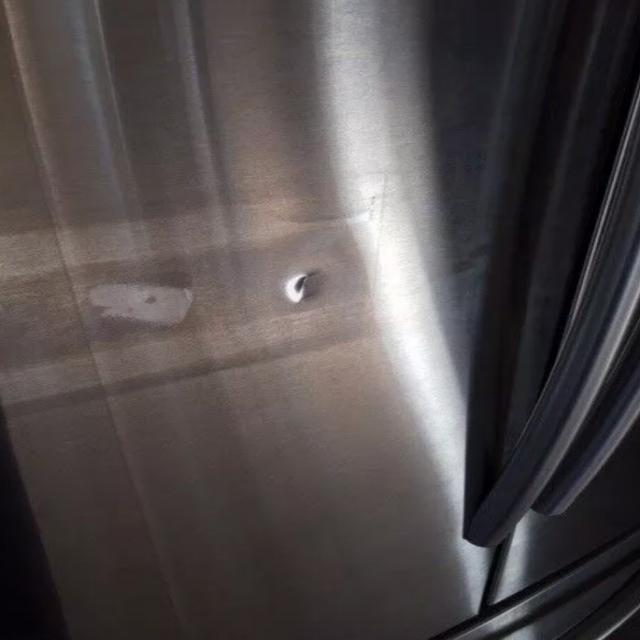dents: (263, 252, 376, 345)
